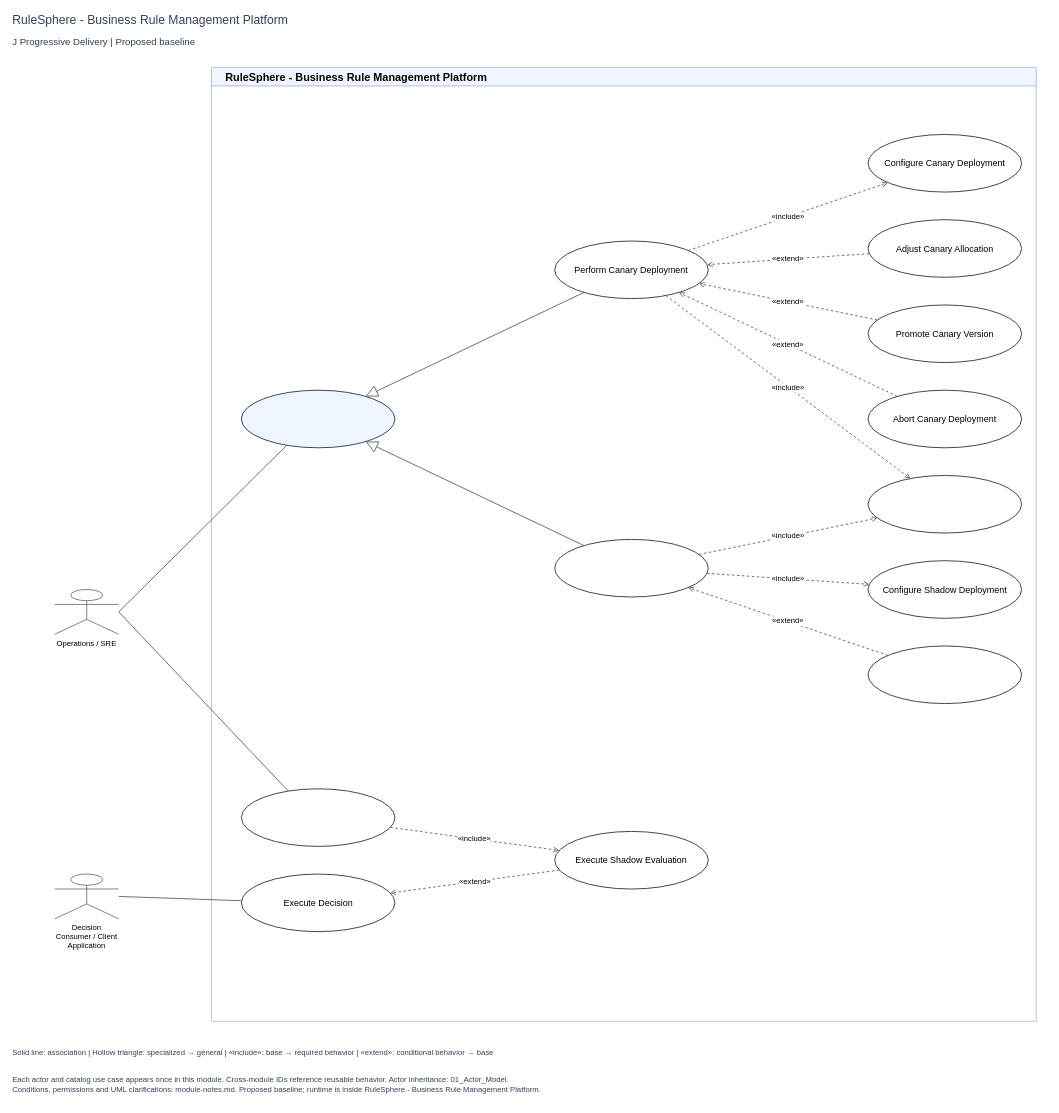
Some shapes in this 1059 by 1113 pixel diagram are drawn without their labels. The box of each missing label's shape, as (x1, y1, x2, y2) in pixels:
Compare Shadow Results: (241, 788, 395, 847)
Deploy Decision: (867, 475, 1022, 533)
Perform Progressive Deployment: (241, 389, 395, 448)
Perform Shadow Deployment: (554, 539, 708, 597)
Stop Shadow Deployment: (867, 645, 1022, 704)
